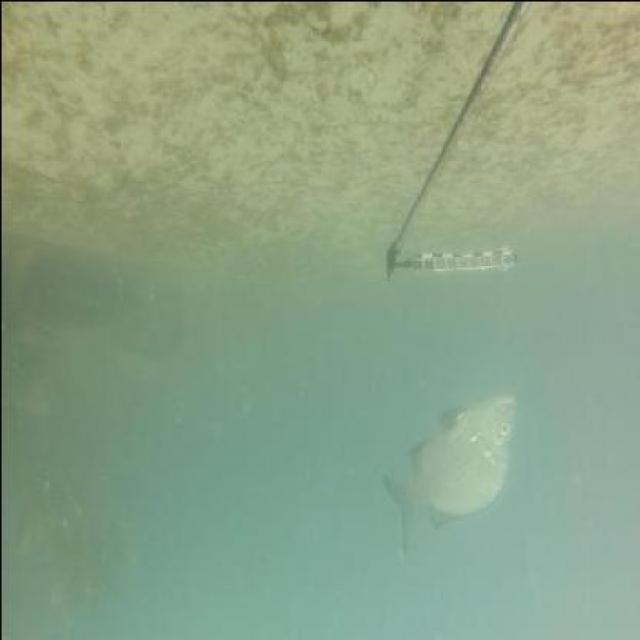acanthopagrus_palmaris: (379, 381, 518, 559)
